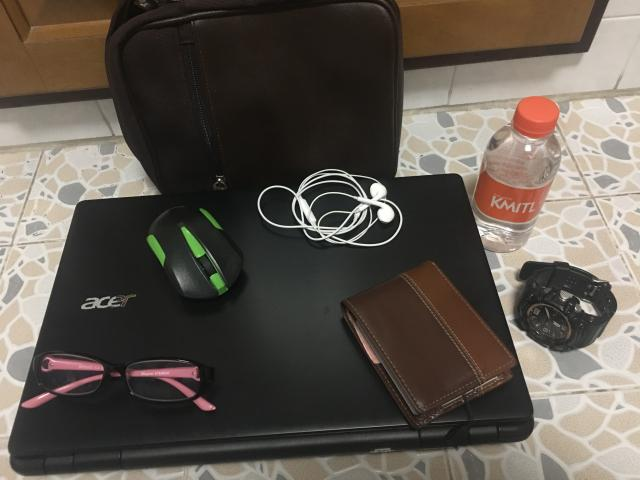Glasses: (21, 351, 215, 411)
Mouse: (146, 206, 244, 299)
Wallet: (341, 261, 516, 429)
Watch: (516, 261, 618, 351)
bottle: (471, 96, 561, 252)
wire: (258, 169, 402, 248)
